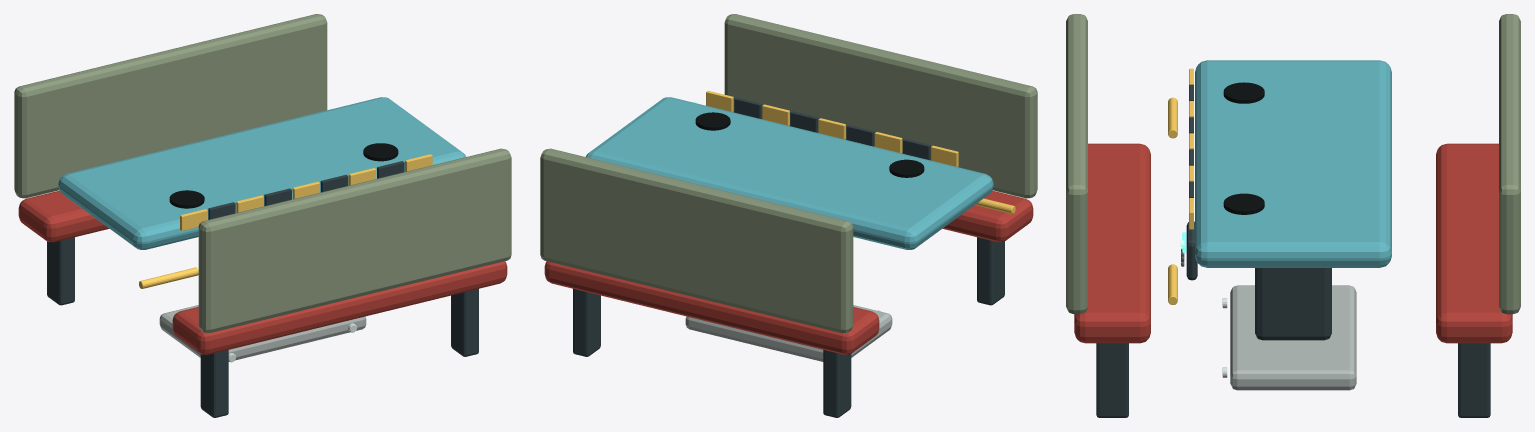
File: 02_foldout_mess_table_1p6x0p9m.glb
The picture shows the model from 3 angles, left to right: view 1: azimuth 30°, elevation 25°; view 2: azimuth 150°, elevation 25°; view 3: azimuth 270°, elevation 25°; orthographic projection. The views are drawn at different scales.
Visible parts, largest first — view 1: MESS_Front_Bench_Back_Panel, MESS_Back_Bench_Back_Panel, MESS_Tabletop_Rounded_Metal, MESS_Front_Bench_Seat_Red_Vinyl, MESS_Back_Bench_Seat_Red_Vinyl, MESS_Floor_Mounting_Plate, MESS_Front_Bench_Leg_-0.62, MESS_Back_Bench_Leg_-0.62, MESS_Front_Bench_Leg_0.62, MESS_Tabletop_Cup_Recess_0, MESS_Foldout_Hinge_Rod_0, MESS_Tabletop_Cup_Recess_1; view 2: MESS_Back_Bench_Back_Panel, MESS_Front_Bench_Back_Panel, MESS_Tabletop_Rounded_Metal, MESS_Back_Bench_Seat_Red_Vinyl, MESS_Front_Bench_Seat_Red_Vinyl, MESS_Floor_Mounting_Plate, MESS_Back_Bench_Leg_-0.62, MESS_Front_Bench_Leg_-0.62, MESS_Back_Bench_Leg_0.62, MESS_Tabletop_Cup_Recess_1, MESS_Tabletop_Cup_Recess_0, MESS_Table_Edge_Hazard_Stripe_02 (+1 smaller); view 3: MESS_Tabletop_Rounded_Metal, MESS_Back_Bench_Seat_Red_Vinyl, MESS_Front_Bench_Seat_Red_Vinyl, MESS_Floor_Mounting_Plate, MESS_Back_Bench_Back_Panel, MESS_Front_Bench_Back_Panel, MESS_Central_Pedestal, MESS_Back_Bench_Leg_0.62, MESS_Front_Bench_Leg_0.62, MESS_Tabletop_Cup_Recess_0, MESS_Tabletop_Cup_Recess_1, MESS_Table_Utility_Terminal_Block.
Part boxes in pixels (left/top/right/bottom): MESS_Front_Bench_Back_Panel: left=198, top=148, right=511, bottom=333; MESS_Back_Bench_Back_Panel: left=14, top=14, right=327, bottom=198; MESS_Tabletop_Rounded_Metal: left=58, top=97, right=466, bottom=249; MESS_Front_Bench_Seat_Red_Vinyl: left=172, top=261, right=507, bottom=354; MESS_Back_Bench_Seat_Red_Vinyl: left=18, top=190, right=109, bottom=242; MESS_Floor_Mounting_Plate: left=159, top=305, right=366, bottom=361; MESS_Front_Bench_Leg_-0.62: left=200, top=350, right=228, bottom=417; MESS_Back_Bench_Leg_-0.62: left=47, top=237, right=74, bottom=305; MESS_Front_Bench_Leg_0.62: left=451, top=289, right=478, bottom=356; MESS_Tabletop_Cup_Recess_0: left=169, top=190, right=204, bottom=208; MESS_Foldout_Hinge_Rod_0: left=139, top=267, right=198, bottom=288; MESS_Tabletop_Cup_Recess_1: left=363, top=143, right=398, bottom=161; MESS_Back_Bench_Back_Panel: left=540, top=148, right=853, bottom=333; MESS_Front_Bench_Back_Panel: left=724, top=14, right=1037, bottom=198; MESS_Tabletop_Rounded_Metal: left=585, top=97, right=993, bottom=249; MESS_Back_Bench_Seat_Red_Vinyl: left=544, top=261, right=879, bottom=354; MESS_Front_Bench_Seat_Red_Vinyl: left=942, top=190, right=1033, bottom=242; MESS_Floor_Mounting_Plate: left=685, top=305, right=892, bottom=361; MESS_Back_Bench_Leg_-0.62: left=823, top=350, right=851, bottom=417; MESS_Front_Bench_Leg_-0.62: left=977, top=237, right=1004, bottom=305; MESS_Back_Bench_Leg_0.62: left=573, top=289, right=600, bottom=356; MESS_Tabletop_Cup_Recess_1: left=695, top=112, right=730, bottom=130; MESS_Tabletop_Cup_Recess_0: left=889, top=159, right=924, bottom=177; MESS_Table_Edge_Hazard_Stripe_02: left=874, top=132, right=902, bottom=153; MESS_Tabletop_Rounded_Metal: left=1195, top=60, right=1391, bottom=267; MESS_Back_Bench_Seat_Red_Vinyl: left=1436, top=143, right=1512, bottom=343; MESS_Front_Bench_Seat_Red_Vinyl: left=1074, top=143, right=1150, bottom=343; MESS_Floor_Mounting_Plate: left=1230, top=285, right=1356, bottom=390; MESS_Back_Bench_Back_Panel: left=1499, top=14, right=1520, bottom=314; MESS_Front_Bench_Back_Panel: left=1066, top=14, right=1087, bottom=314; MESS_Central_Pedestal: left=1255, top=268, right=1331, bottom=340; MESS_Back_Bench_Leg_0.62: left=1458, top=343, right=1490, bottom=417; MESS_Front_Bench_Leg_0.62: left=1096, top=343, right=1128, bottom=417; MESS_Tabletop_Cup_Recess_0: left=1223, top=82, right=1264, bottom=103; MESS_Tabletop_Cup_Recess_1: left=1223, top=193, right=1264, bottom=214; MESS_Table_Utility_Terminal_Block: left=1186, top=221, right=1197, bottom=280.
Bounding box in the file's own units: 1.72 × 1 × 1.66.
